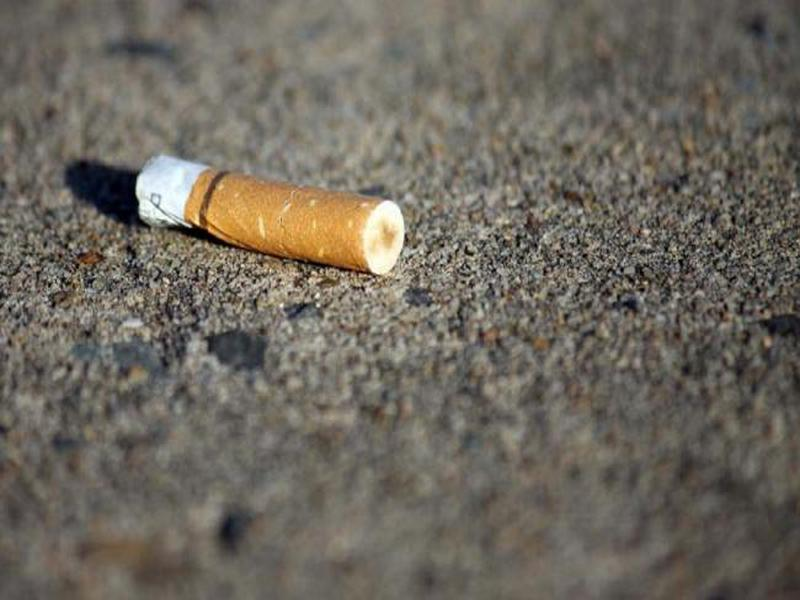burned_cigarette: (127, 150, 408, 278)
